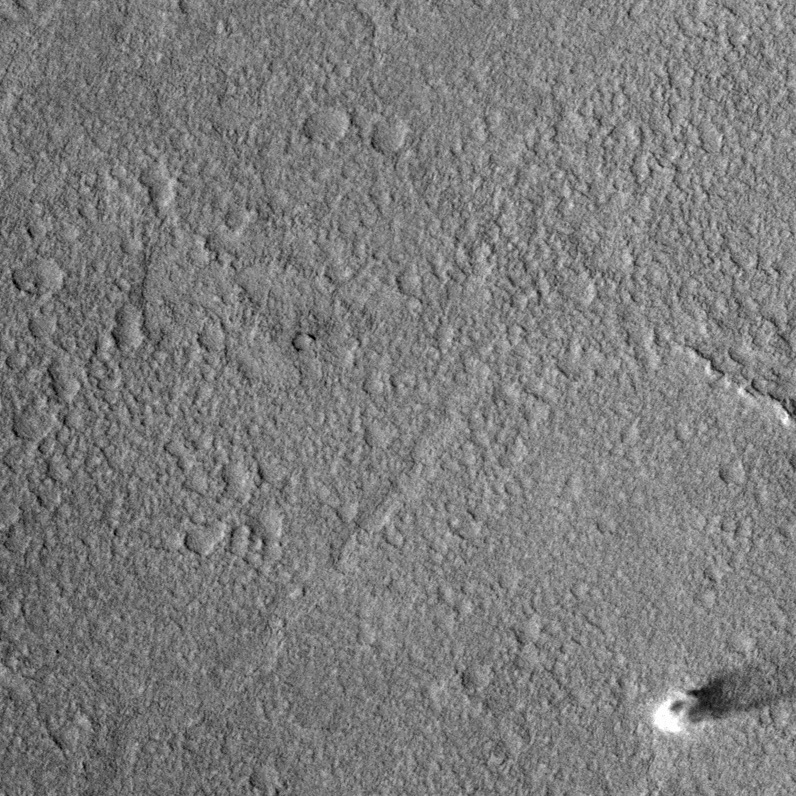dust_devil: (652, 642, 796, 736)
